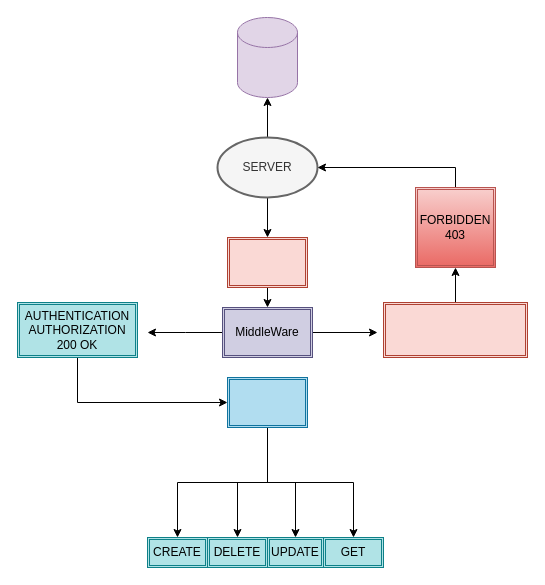
Some shapes in this 545 by 585 pixel diagram are drawn without their labels. The shapes that lost their labels are listed below. From the top down, each one's centre as x and y in pixels, then its label:
At pixel 267 57: "DB".
At pixel 267 262: "Routes".
At pixel 455 330: "No AUTHENTICATION No AUTHORIZATION".
At pixel 267 402: "Controllers".
